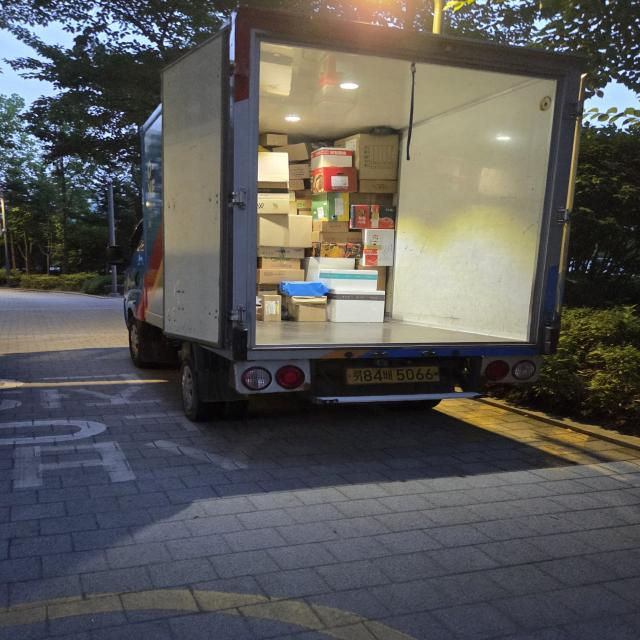car: (125, 7, 602, 458)
